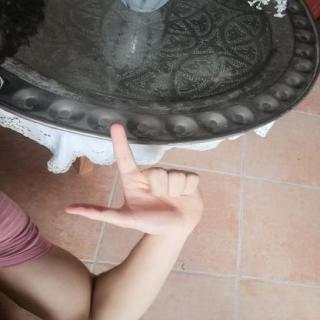LAAM: (57, 115, 211, 241)
